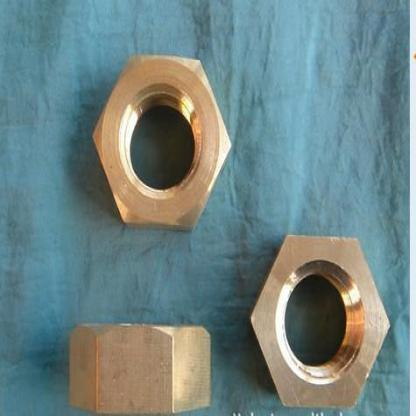FOD: (90, 53, 232, 237), (249, 230, 392, 411), (66, 319, 216, 415)
